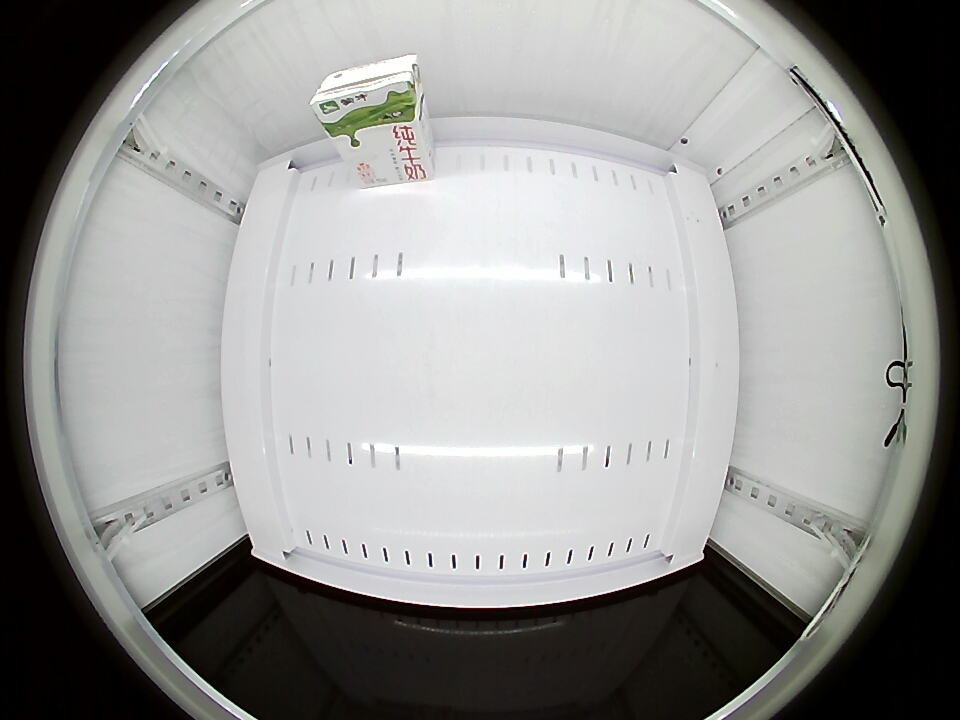mengniu: (310, 53, 423, 132)
